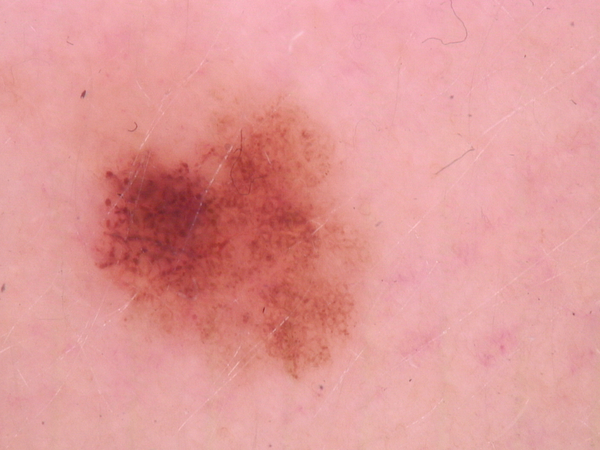Detected Lesion: (91, 99, 370, 389)
